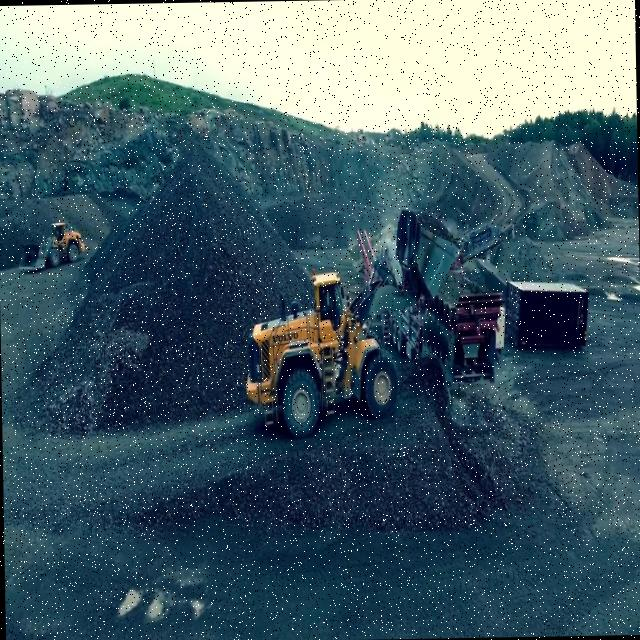Dump Truck: (385, 270, 506, 388)
Loader: (241, 203, 464, 442), (15, 218, 86, 271)
